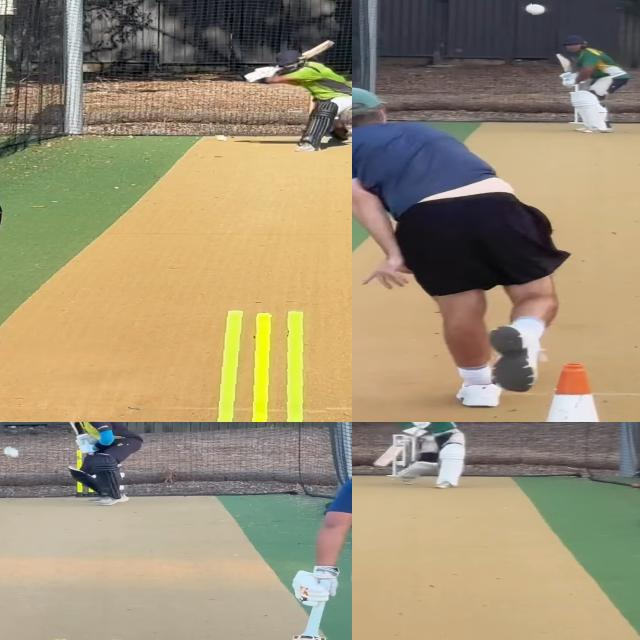Cricket ball: (523, 0, 549, 16), (2, 445, 20, 458), (394, 459, 409, 468), (215, 136, 229, 144)
Stumps: (201, 307, 333, 422)
